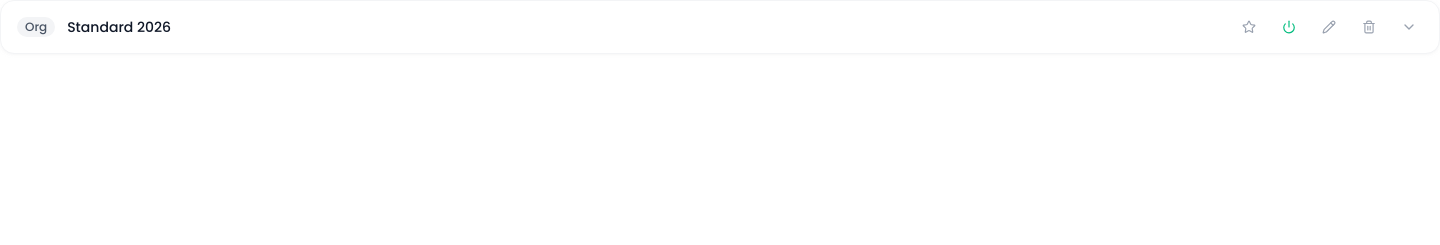
PriceListCard › loads and renders price items when expanded
Click the button named "Expand": (1409, 27) [1395,13,1423,41]
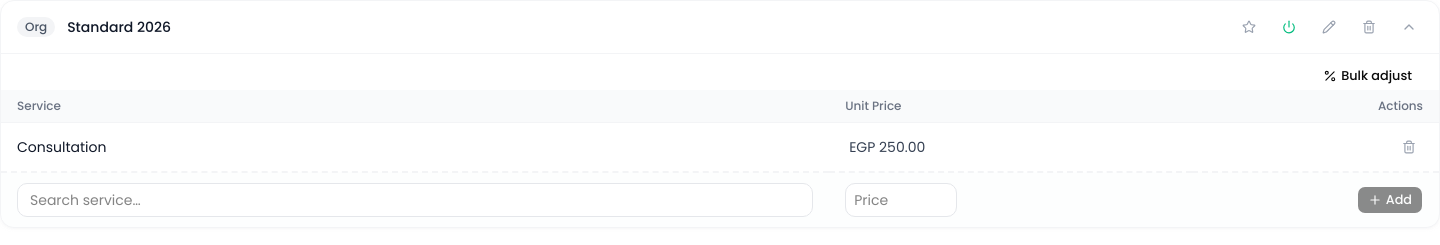
Expected: the text "Consultation" is shown, [1,122,829,172]
Expected: the button "EGP 250.00" is shown, [845,137,929,157]
